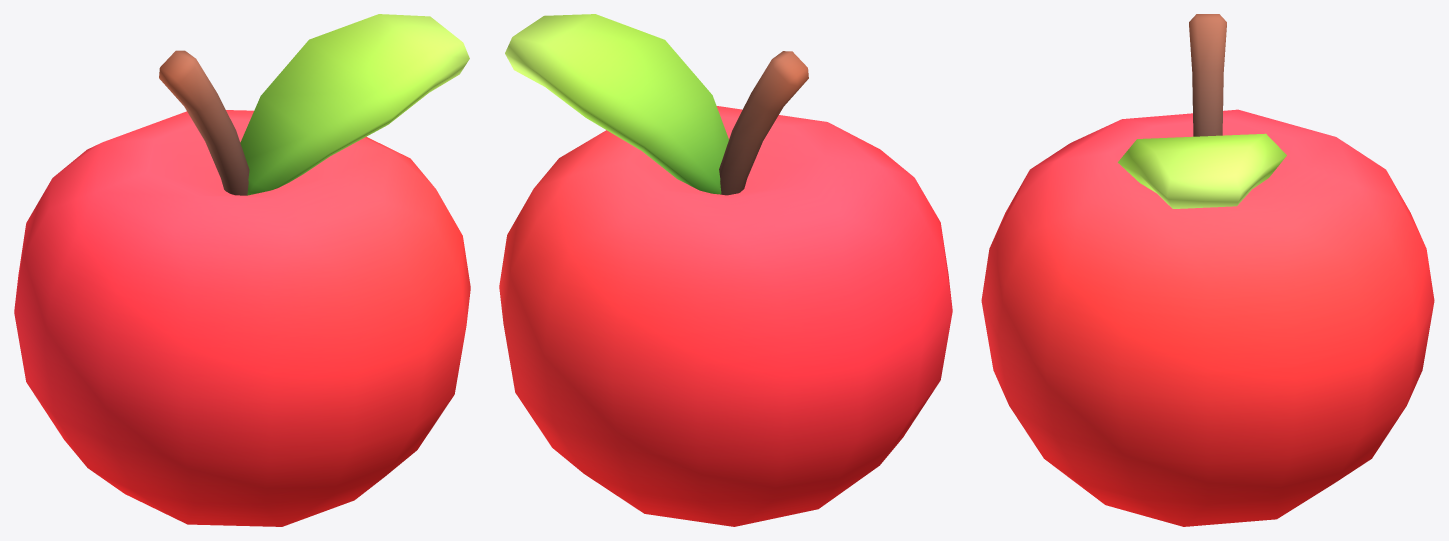
File: apple_001.glb
The picture shows the model from 3 angles, left to right: view 1: azimuth 30°, elevation 25°; view 2: azimuth 150°, elevation 25°; view 3: azimuth 270°, elevation 25°; orthographic projection.
Visible parts, largest first — view 1: apple_001; view 2: apple_001; view 3: apple_001.
Boxes of the visible parts, x1,y1,x2,y2 form: apple_001: [14, 14, 470, 526]; apple_001: [499, 14, 952, 526]; apple_001: [981, 14, 1434, 526].
Bounding box in the file's own units: 1.29 × 1.39 × 1.26.
Materials: 1 (1 with a texture image).
